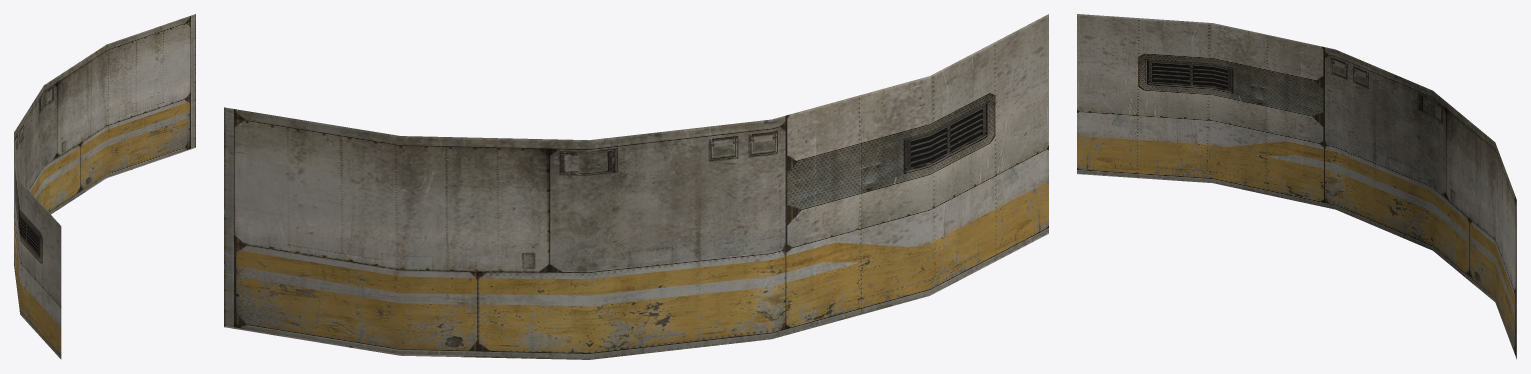
Rendered from Wall_G_Short2mts_00.fbx.
The picture shows the model from 3 angles, left to right: view 1: azimuth 30°, elevation 25°; view 2: azimuth 150°, elevation 25°; view 3: azimuth 270°, elevation 25°; orthographic projection. The views are drawn at different scales.
Parts seen in each view (by area): view 1: Wall_F_Short2mts_00; view 2: Wall_F_Short2mts_00; view 3: Wall_F_Short2mts_00.
Boxes of the visible parts, x1,y1,x2,y2 form: Wall_F_Short2mts_00: [14, 14, 195, 359]; Wall_F_Short2mts_00: [224, 14, 1048, 359]; Wall_F_Short2mts_00: [1077, 14, 1516, 359].
Size of the model in its own units: 498 by 200 by 498.
